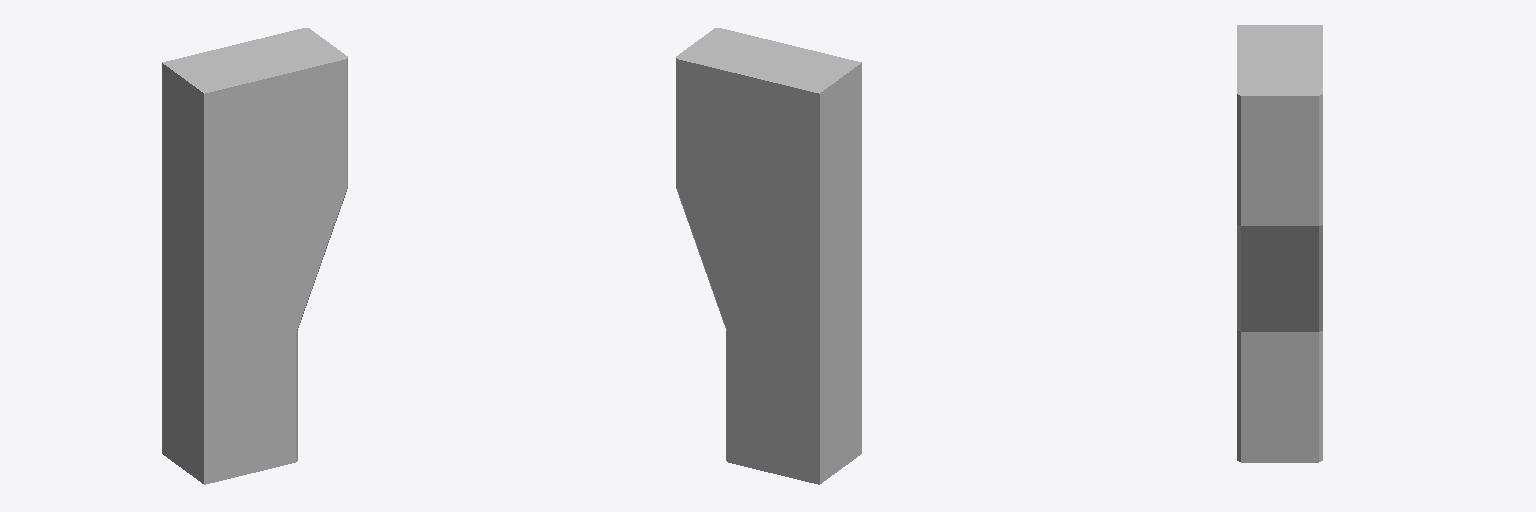
File: Corridor_Doors1.obj
3 renders of one model, left to right at view 1: azimuth 30°, elevation 25°; view 2: azimuth 150°, elevation 25°; view 3: azimuth 270°, elevation 25°, orthographic.
Parts seen in each view (by area): view 1: Doors1_Cube.036; view 2: Doors1_Cube.036; view 3: Doors1_Cube.036.
Boxes of the visible parts, x1,y1,x2,y2 form: Doors1_Cube.036: [162, 28, 347, 484]; Doors1_Cube.036: [676, 28, 861, 484]; Doors1_Cube.036: [1237, 25, 1322, 462].
Bounding box in the file's own units: 1.2 × 3.09 × 0.6094.